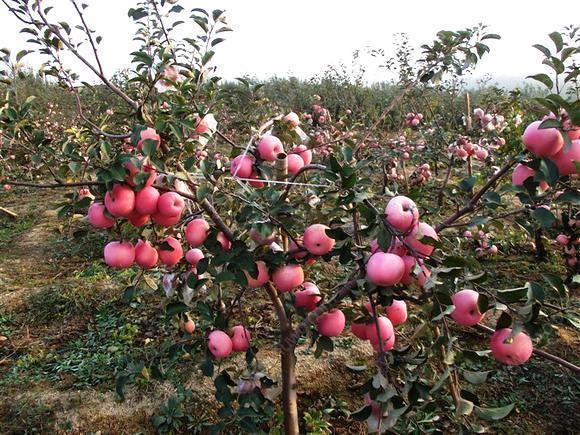apple: (488, 328, 532, 363), (523, 122, 561, 157), (449, 289, 485, 325), (367, 253, 404, 285), (385, 196, 418, 227), (102, 185, 134, 216), (103, 238, 135, 269), (305, 224, 335, 255), (272, 263, 304, 292), (184, 218, 210, 247), (318, 308, 343, 336), (368, 315, 392, 344), (134, 187, 158, 214), (158, 191, 183, 215), (208, 332, 231, 358), (159, 238, 182, 264), (259, 135, 281, 159), (136, 244, 158, 268), (230, 327, 248, 352), (232, 156, 250, 177), (285, 155, 302, 174)
